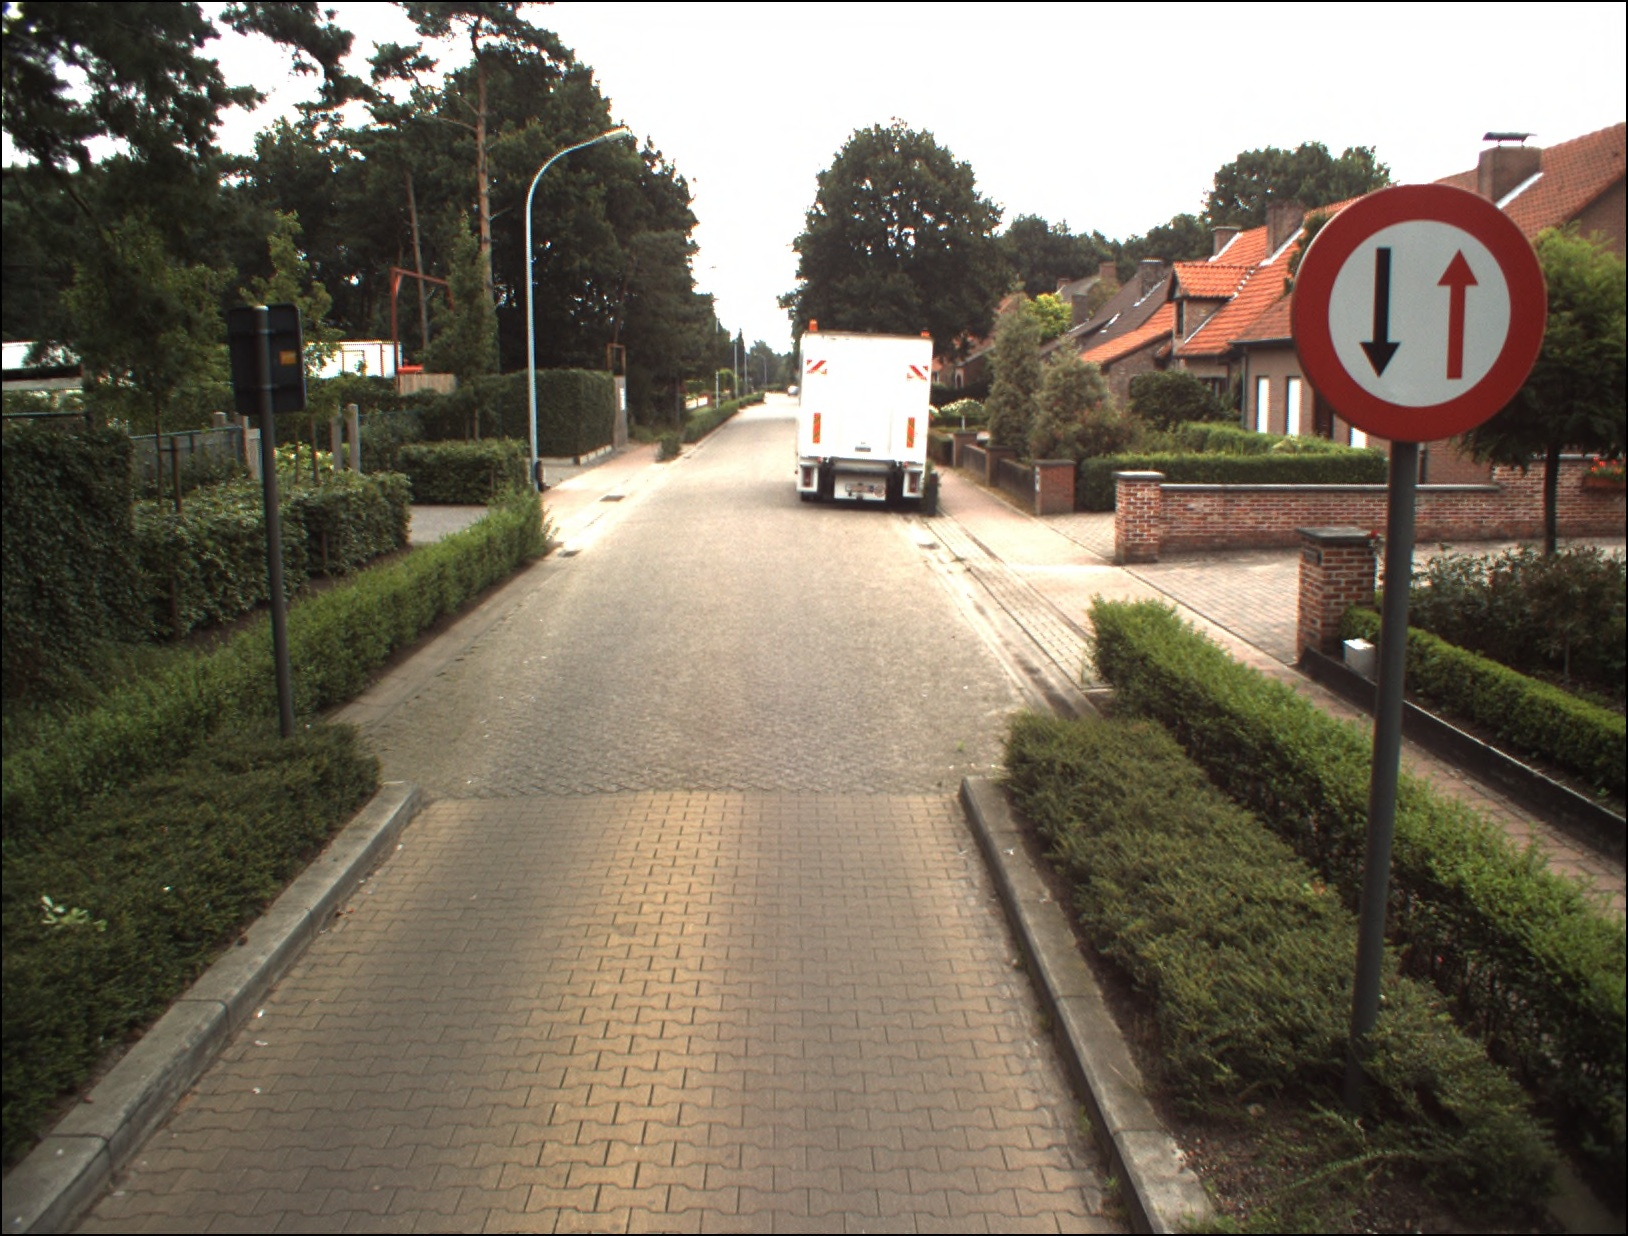roadnarrow2: (1294, 180, 1546, 438)
